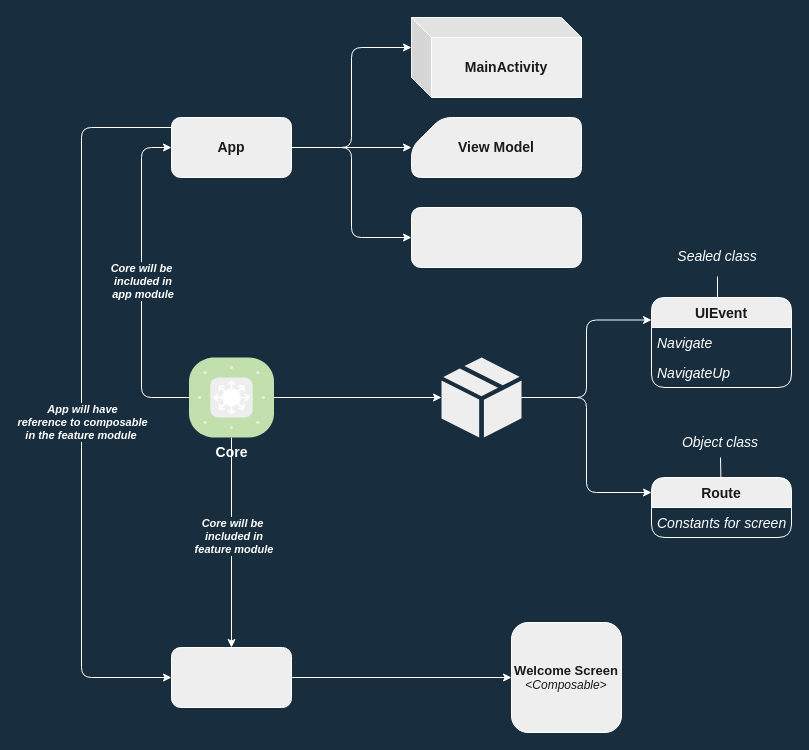
Some shapes in this 809 by 750 pixel diagram are drawn without their labels. The shapes that lost their labels are listed below. From the top down, each one's centre as x and y in pixels, then its label:
At (496,237): "NavControllerExt".
At (481,397): "Package".
At (231,677): "feature".
